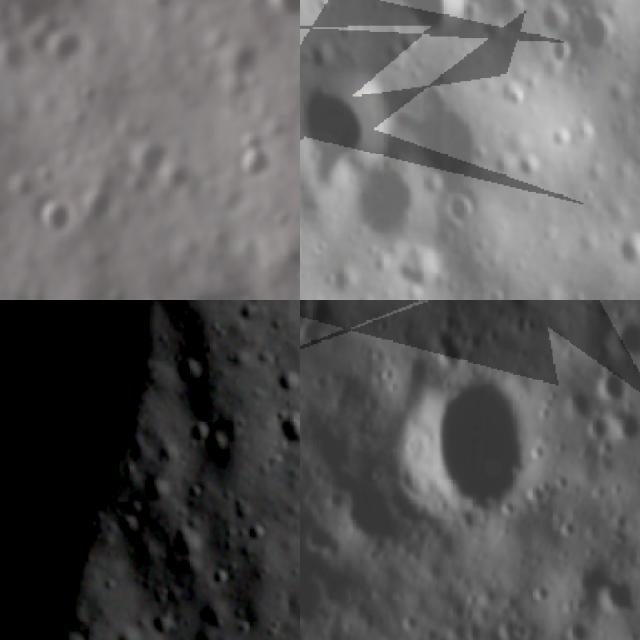crater: (384, 361, 552, 536), (300, 53, 412, 185), (408, 84, 514, 198), (344, 152, 446, 256), (300, 487, 347, 627), (571, 0, 630, 56), (226, 130, 279, 187), (593, 564, 640, 623), (30, 194, 77, 248), (594, 310, 640, 364), (131, 138, 177, 190), (404, 0, 479, 31), (588, 361, 638, 407), (83, 179, 125, 232), (579, 407, 617, 444), (610, 404, 640, 448), (261, 0, 300, 33), (171, 528, 214, 554), (560, 614, 602, 640), (613, 232, 640, 272), (300, 300, 322, 344), (280, 404, 300, 447), (184, 418, 212, 448), (174, 358, 206, 384), (112, 515, 148, 536), (530, 580, 555, 607), (144, 480, 176, 501), (152, 612, 175, 639), (244, 522, 272, 544), (300, 230, 310, 291), (208, 567, 236, 588), (122, 500, 154, 514), (102, 572, 122, 594), (53, 630, 94, 640), (212, 430, 228, 454), (233, 493, 254, 511), (189, 484, 208, 502)
